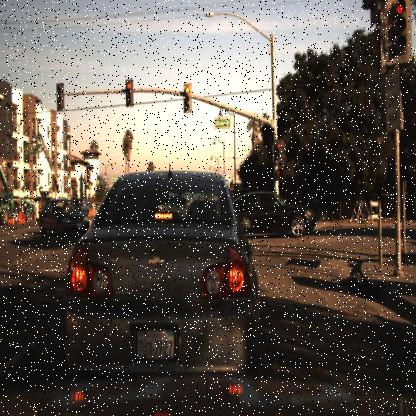car: (56, 163, 267, 409), (235, 181, 320, 240), (36, 192, 90, 238)
trafficLight: (182, 80, 192, 115), (54, 82, 65, 110)
trafficLight-Red: (380, 0, 415, 76), (273, 134, 284, 166), (124, 76, 134, 107)
